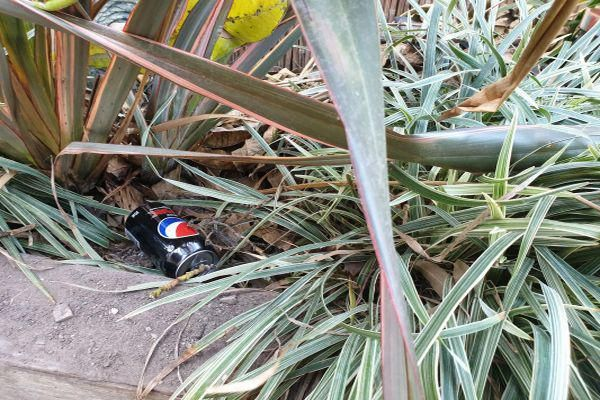Plastic Bottle: (121, 199, 221, 280)
